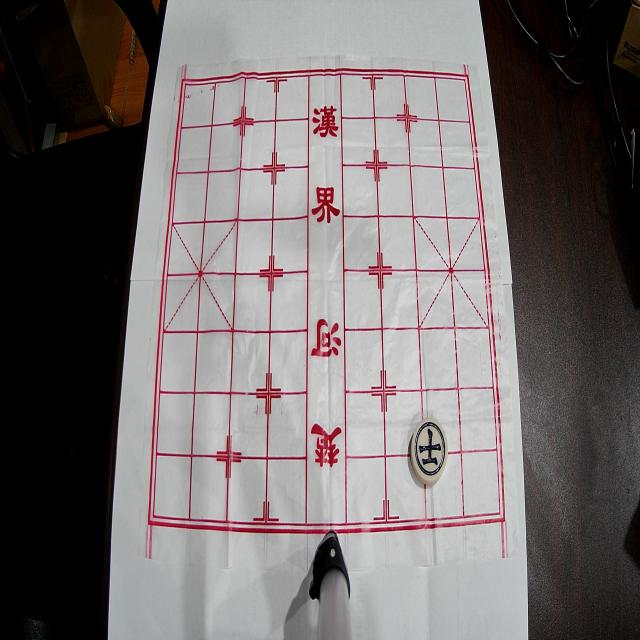black-guard: (411, 417, 448, 485)
